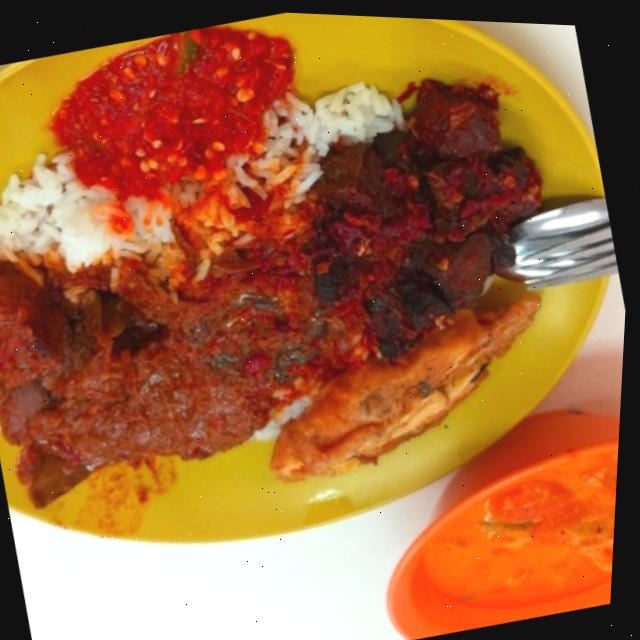米饭主食: (0, 0, 640, 612)
